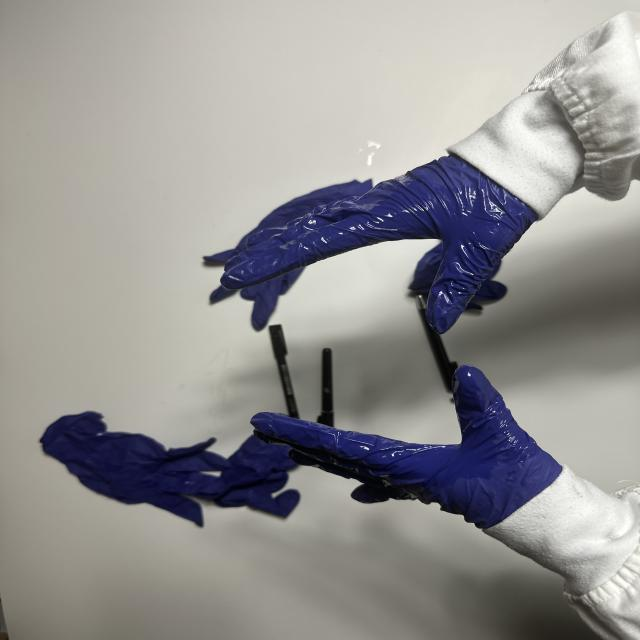gloves_contaminated: (221, 156, 536, 334), (275, 366, 560, 528)
